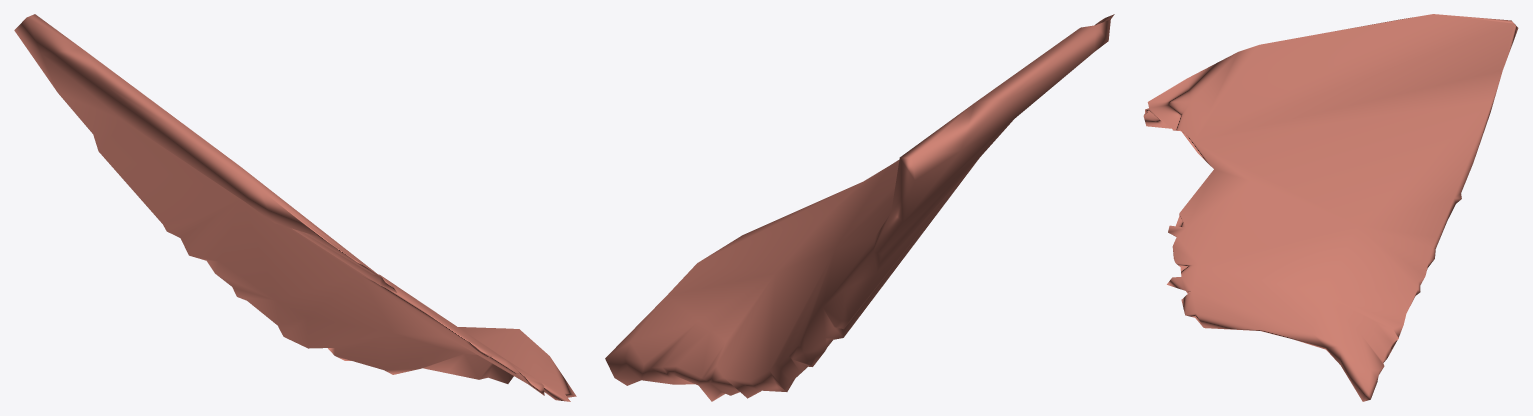
The picture shows the model from 3 angles, left to right: view 1: azimuth 30°, elevation 25°; view 2: azimuth 150°, elevation 25°; view 3: azimuth 270°, elevation 25°; orthographic projection. The views are drawn at different scales.
Parts seen in each view (by area): view 1: 右侧提口角肌; view 2: 右侧提口角肌; view 3: 右侧提口角肌.
Part boxes in pixels (<box>): 右侧提口角肌: <box>14,14,576,401</box>; 右侧提口角肌: <box>605,14,1114,401</box>; 右侧提口角肌: <box>1143,14,1518,401</box>.
Bounding box in the file's own units: 0.0251 × 0.023 × 0.0295.
